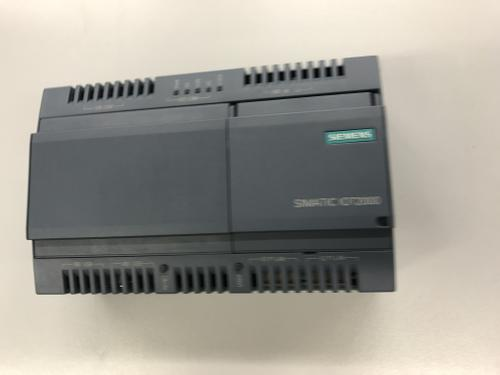device: (26, 56, 397, 296)
